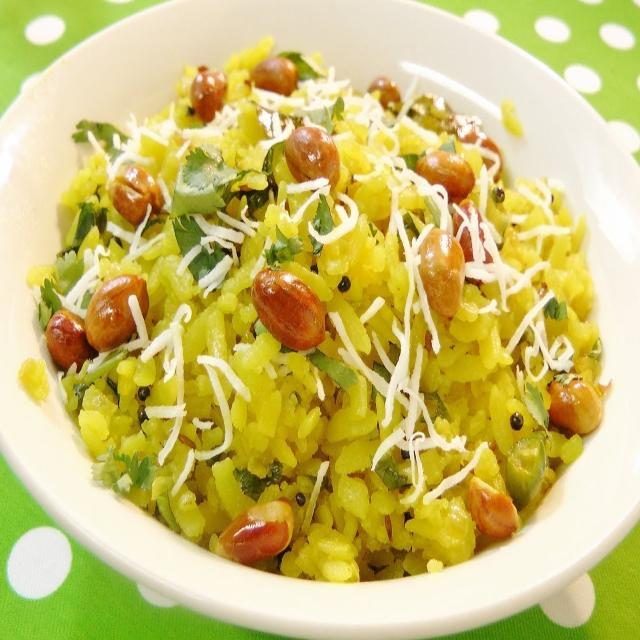UPMA: (35, 40, 608, 574)
